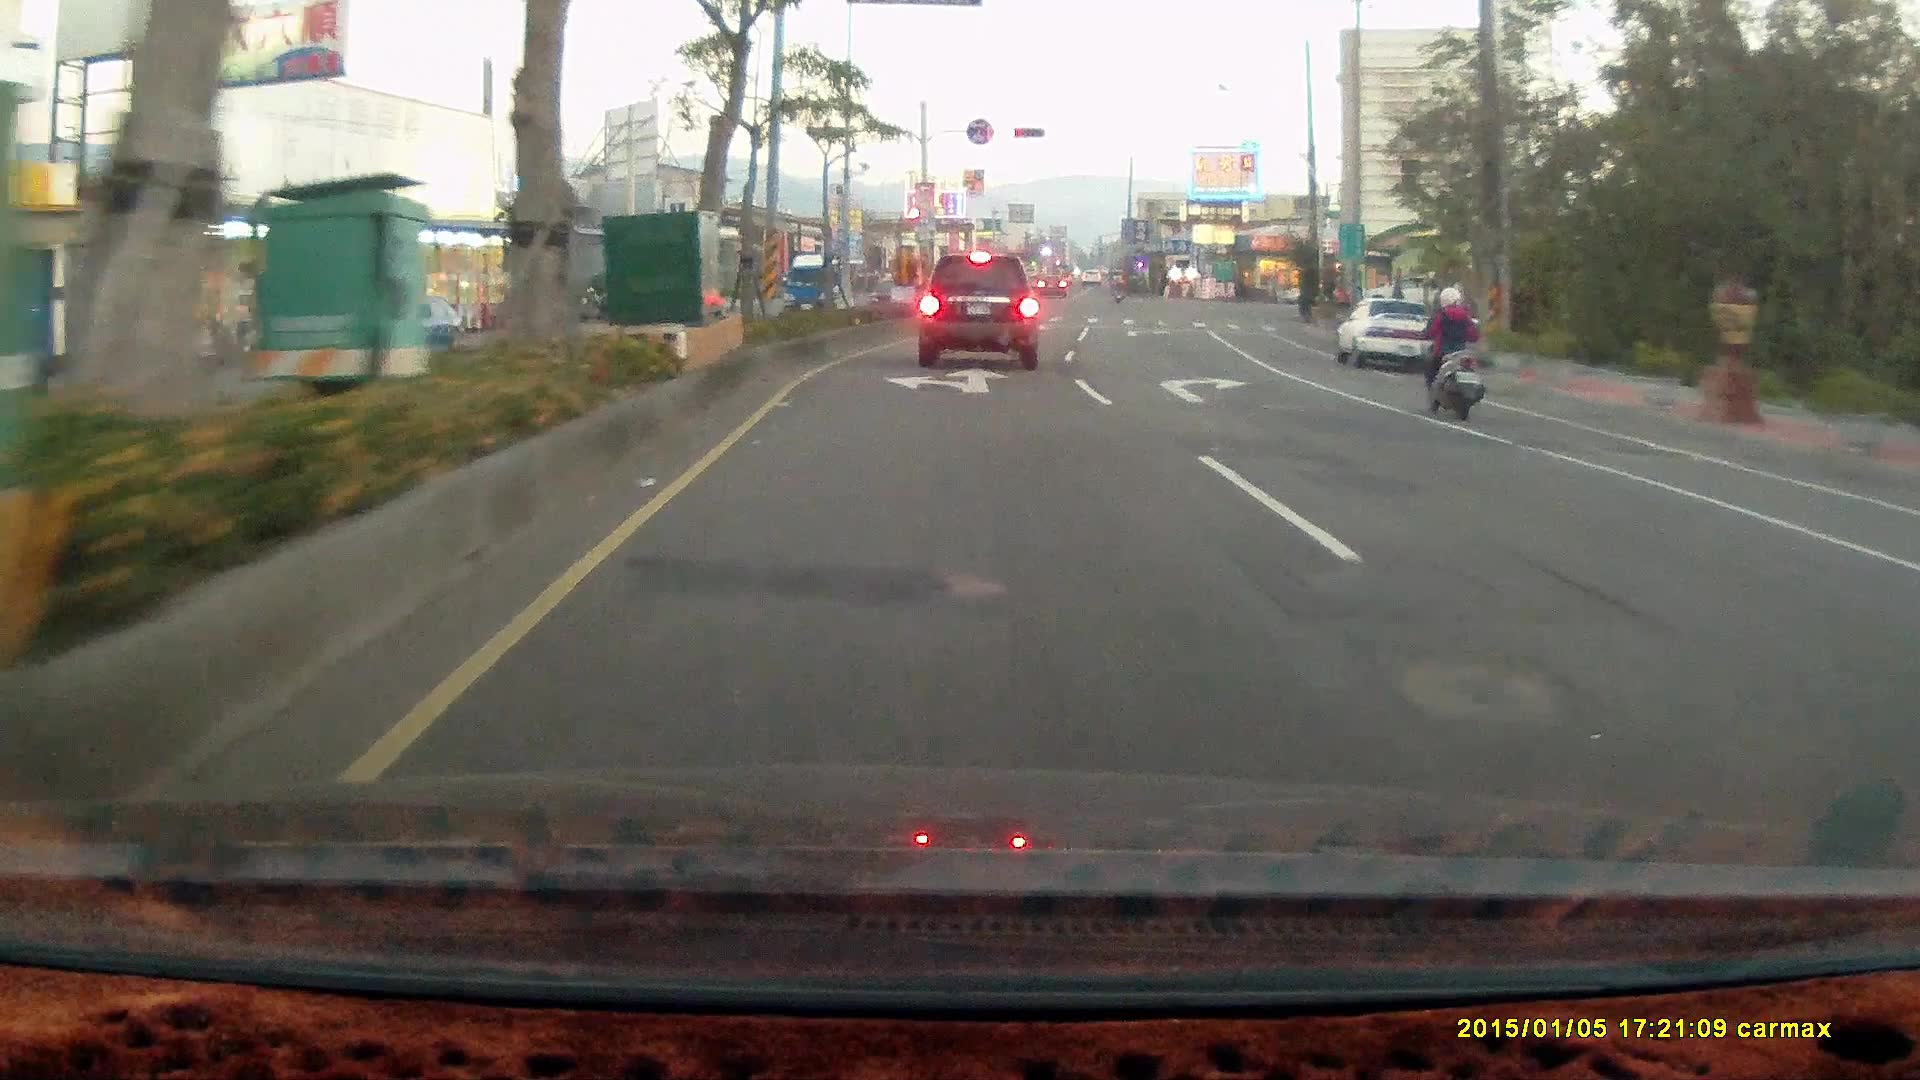rider: (1409, 278, 1488, 417)
vehicle: (916, 253, 1038, 371), (1336, 296, 1451, 374), (1332, 294, 1447, 373), (1896, 493, 1920, 836), (1883, 528, 1920, 690), (1360, 275, 1447, 312)
